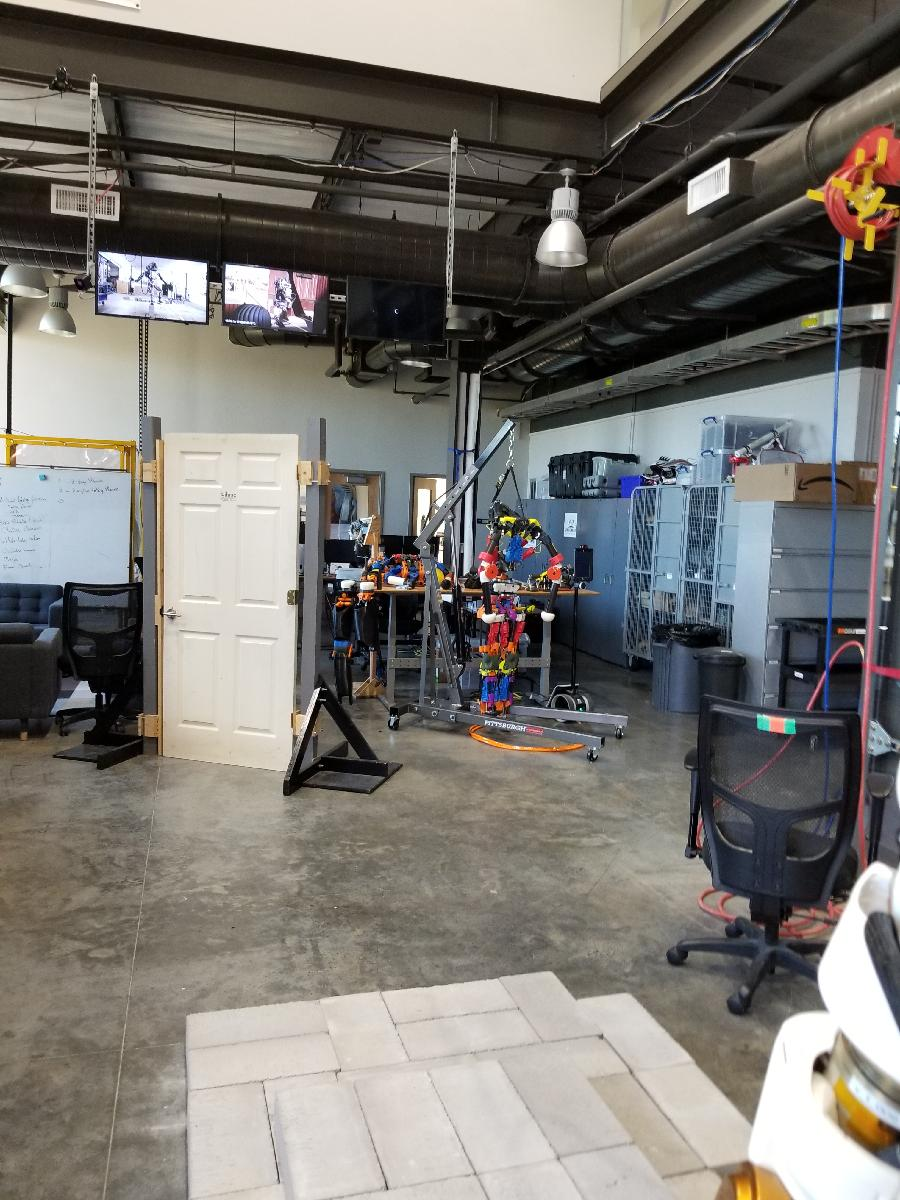door: (157, 430, 309, 778)
doorHandle: (159, 609, 185, 625)
